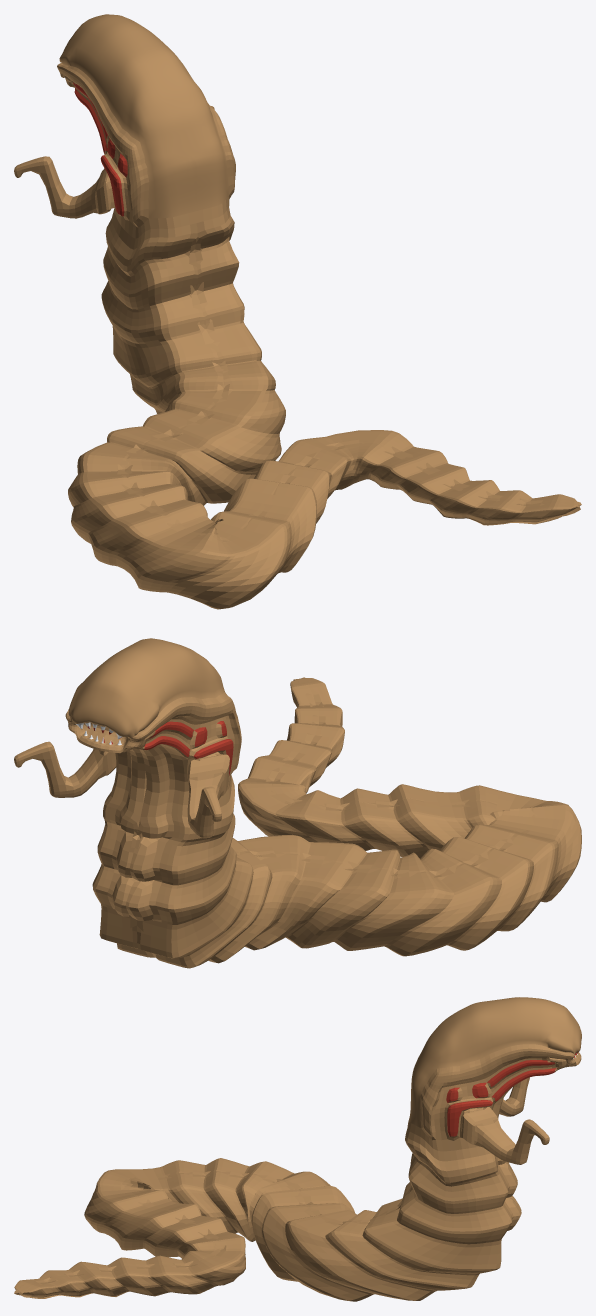
Rendered from Alien 1 Final New.fbx.
3 views of the same model, one above another, from view 1: azimuth 30°, elevation 25°; view 2: azimuth 150°, elevation 25°; view 3: azimuth 270°, elevation 25° (orthographic). The views are drawn at different scales.
Visible parts, largest first — view 1: Alien; view 2: Alien; view 3: Alien.
Part boxes in pixels (bbox=[...]): Alien: bbox=[14, 14, 581, 609]; Alien: bbox=[14, 638, 581, 968]; Alien: bbox=[14, 997, 581, 1301].
Size of the model in its own units: 882 by 828 by 1456.
